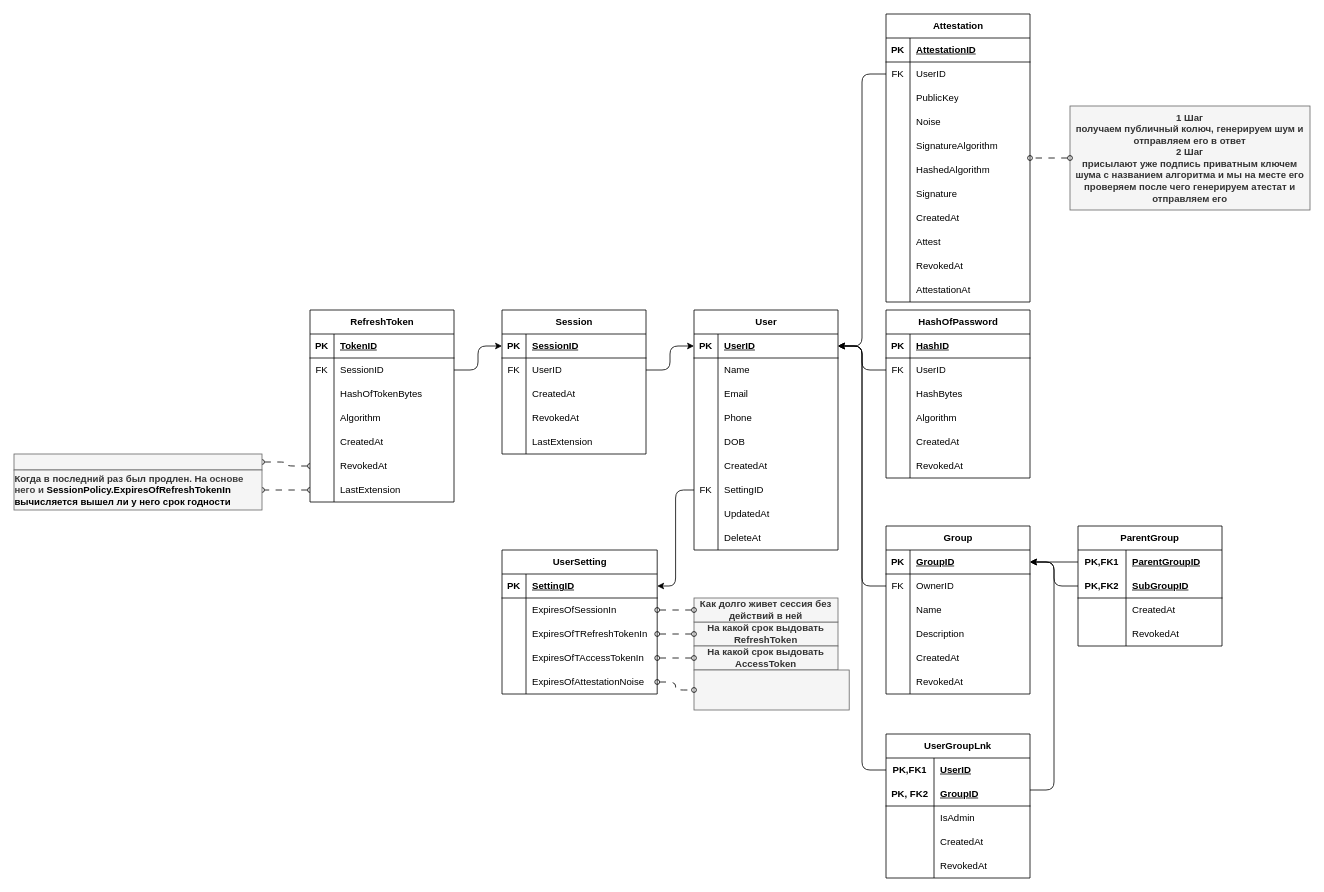
Some shapes in this 1324 by 892 pixel diagram are drawn without their labels. Each missing label, with the centre of its shape:
"Как долго живет шум атестации на первом шаге проаерки подлинности ключа" belongs at [771,689].
"Когда токен был выведен из эксплуатации" belongs at [137,461].
